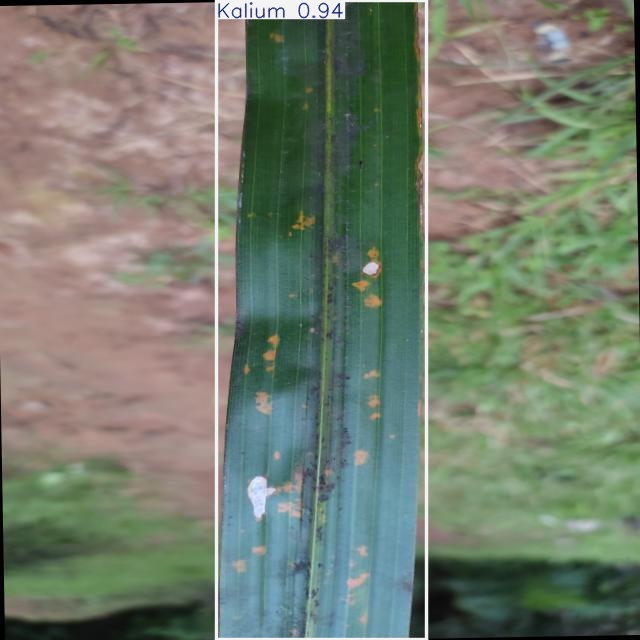Kalium: (216, 1, 427, 640)
